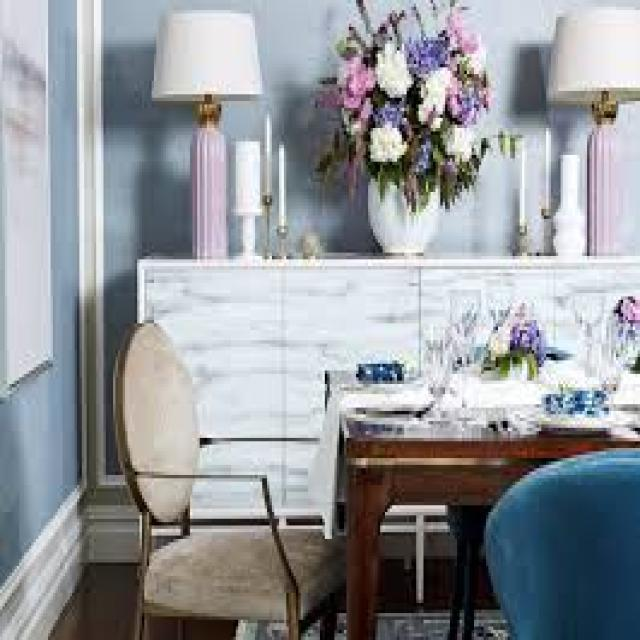Chair: (94, 286, 337, 636), (477, 448, 640, 634)
Lamp: (145, 2, 277, 251), (539, 0, 640, 232)
Table: (311, 352, 640, 633)
